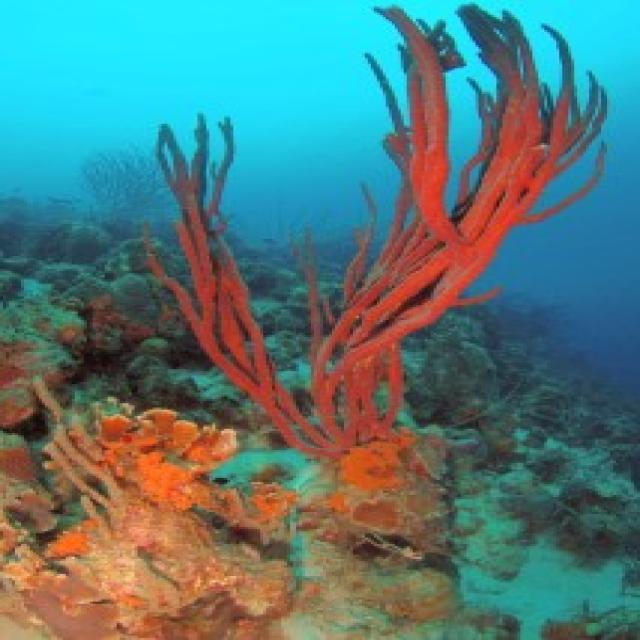Healthy: (151, 7, 602, 455), (1, 387, 294, 639), (303, 430, 447, 562)
